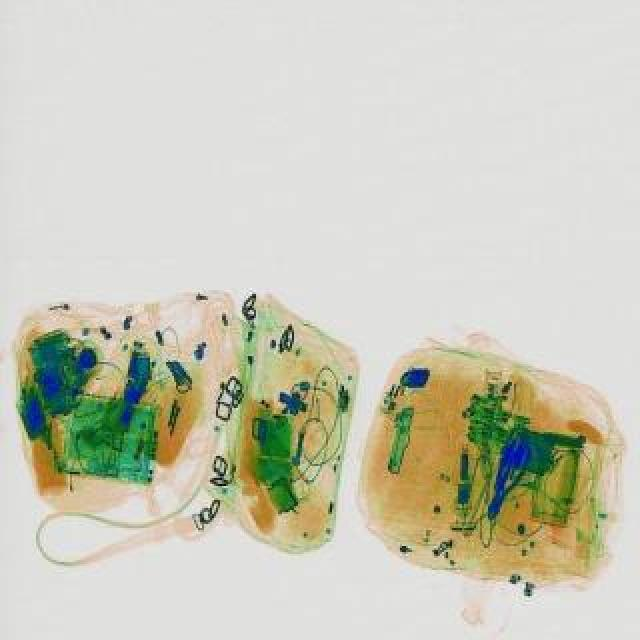wrench: (476, 436, 536, 520)
